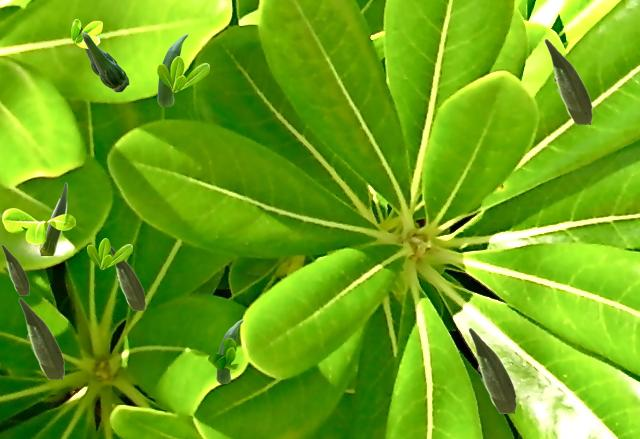okra: (544, 38, 591, 123), (468, 327, 515, 412), (18, 297, 63, 378), (81, 32, 128, 91), (72, 21, 118, 76), (157, 33, 187, 105), (110, 246, 144, 309), (39, 182, 66, 254), (216, 319, 242, 382), (1, 244, 28, 294)
